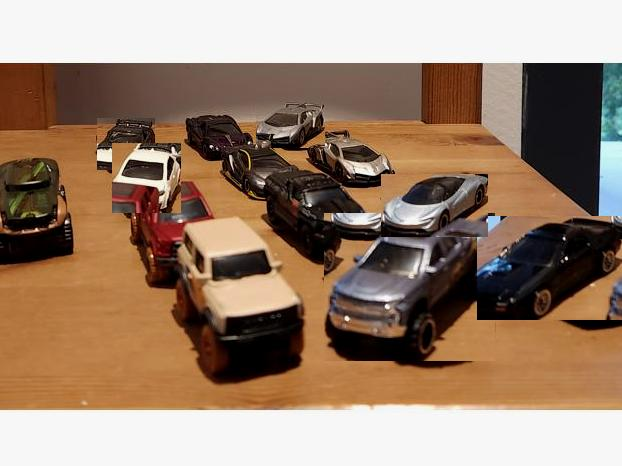toy-car: (324, 214, 495, 362), (175, 217, 306, 377), (477, 216, 622, 320), (265, 169, 369, 256), (131, 180, 214, 286), (0, 156, 74, 264), (382, 175, 489, 238), (305, 129, 396, 187), (113, 143, 182, 213), (221, 144, 300, 199), (256, 102, 325, 148), (185, 115, 254, 159), (97, 118, 155, 170)
